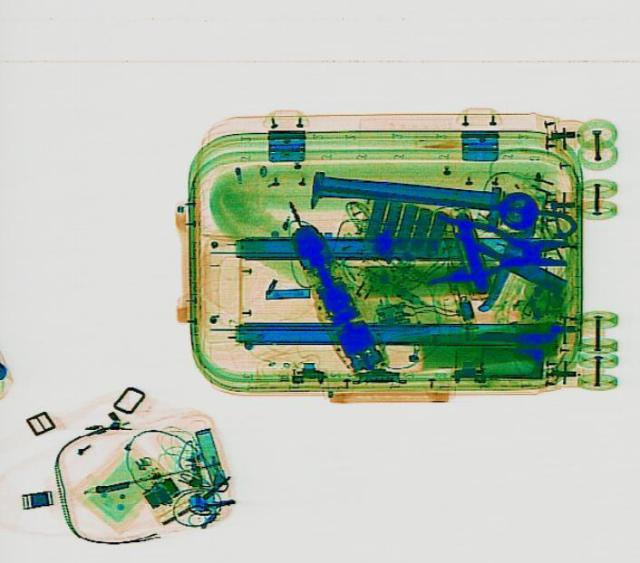Pliers: (426, 211, 570, 286)
